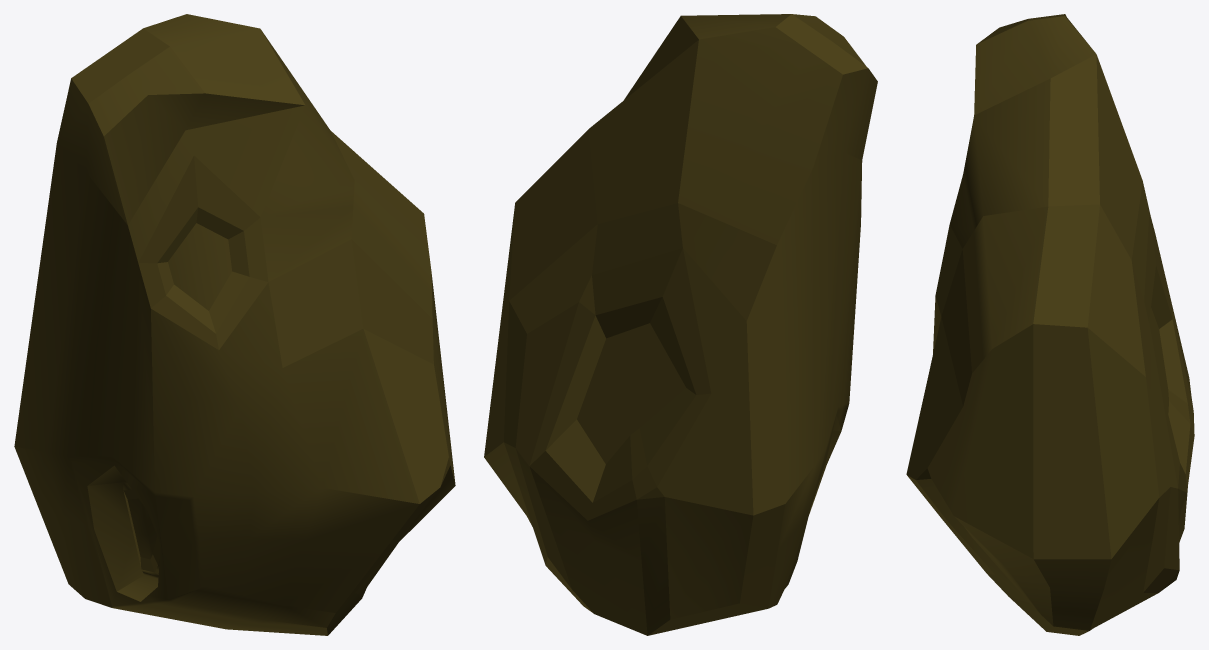
File: AsteroidV1.fbx
3 renders of one model, left to right at view 1: azimuth 30°, elevation 25°; view 2: azimuth 150°, elevation 25°; view 3: azimuth 270°, elevation 25°, orthographic. The views are drawn at different scales.
Visible parts, largest first — view 1: AsteroidV3; view 2: AsteroidV3; view 3: AsteroidV3.
Boxes of the visible parts, x1,y1,x2,y2 form: AsteroidV3: (14,14,455,635); AsteroidV3: (484,14,877,635); AsteroidV3: (906,14,1194,635).
Size of the model in its own units: 8.94 by 15.42 by 7.36.
